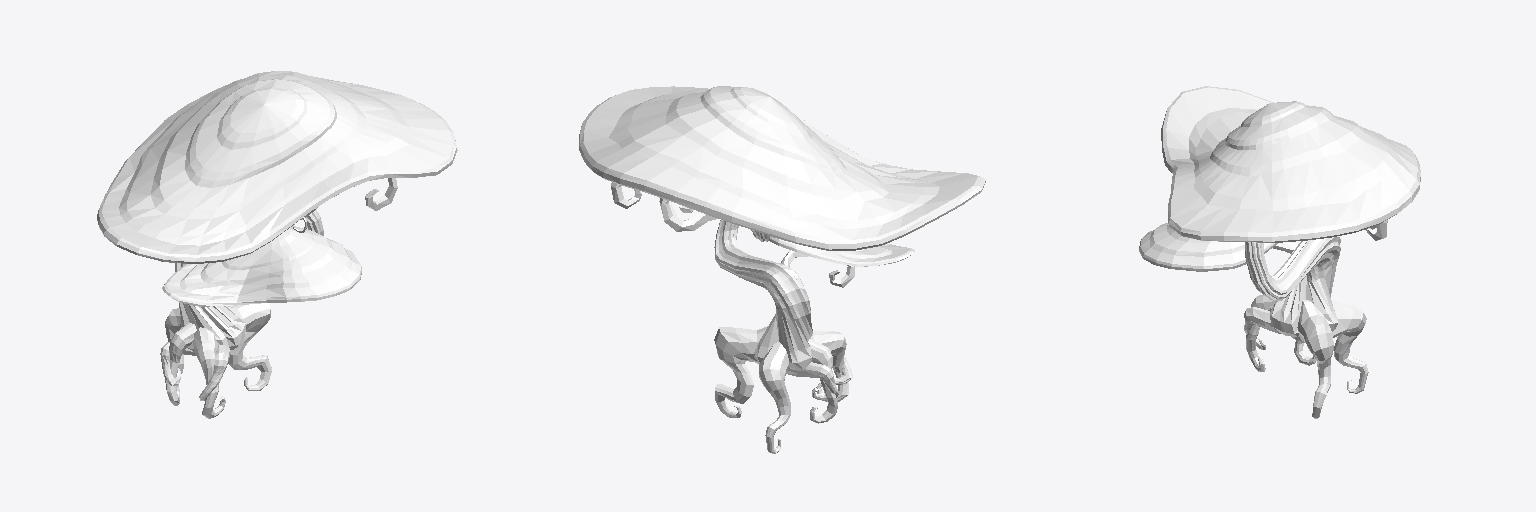
File: tree1.obj
3 views of the same model, side by side, from view 1: azimuth 30°, elevation 25°; view 2: azimuth 150°, elevation 25°; view 3: azimuth 270°, elevation 25° (orthographic).
Parts seen in each view (by area): view 1: mesh_id36, mesh_id38; view 2: mesh_id36, mesh_id38; view 3: mesh_id36, mesh_id38.
Boxes of the visible parts, x1=… form: mesh_id36: x1=97, y1=71, x2=457, y2=306; mesh_id38: x1=160, y1=178, x2=397, y2=418; mesh_id36: x1=579, y1=86, x2=985, y2=266; mesh_id38: x1=611, y1=182, x2=854, y2=453; mesh_id36: x1=1139, y1=86, x2=1420, y2=271; mesh_id38: x1=1244, y1=220, x2=1387, y2=418.
Size of the model in its own units: 0.512 by 0.4406 by 0.3539.